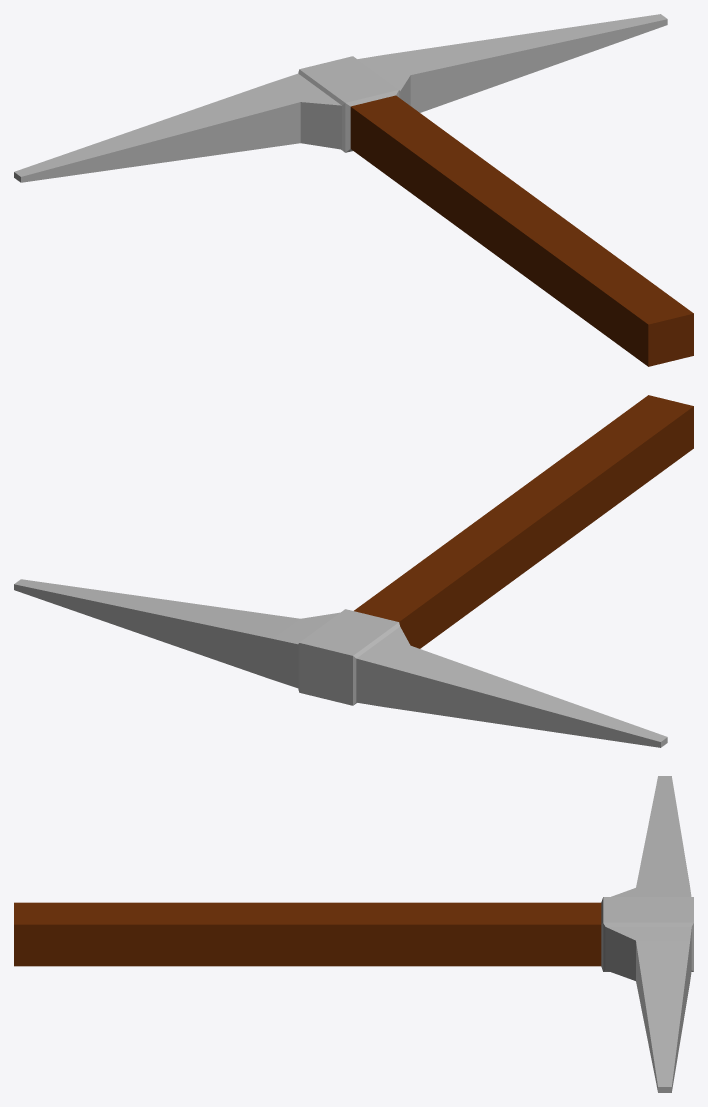
The model's file is Pickaxe.fbx.
The picture shows the model from 3 angles, top to bottom: view 1: azimuth 30°, elevation 25°; view 2: azimuth 150°, elevation 25°; view 3: azimuth 270°, elevation 25°; orthographic projection.
Parts seen in each view (by area): view 1: Pickaxe; view 2: Pickaxe; view 3: Pickaxe.
Part boxes in pixels (x1,y1,x2,y2): Pickaxe: (14, 14, 693, 366); Pickaxe: (14, 395, 693, 747); Pickaxe: (14, 776, 693, 1092).
Size of the model in its own units: 112 by 8.3 by 104.
